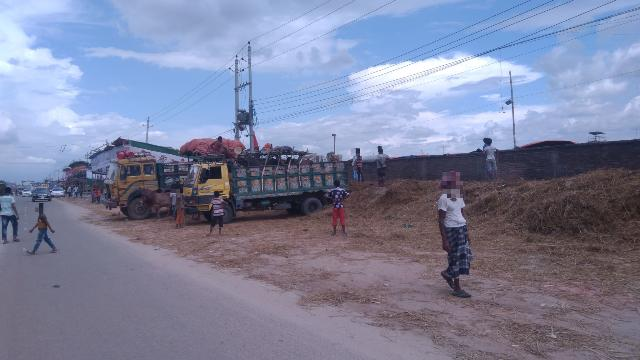car: (31, 184, 53, 202), (52, 181, 63, 202), (20, 186, 33, 200)
truck: (183, 147, 356, 219), (94, 146, 188, 222)
